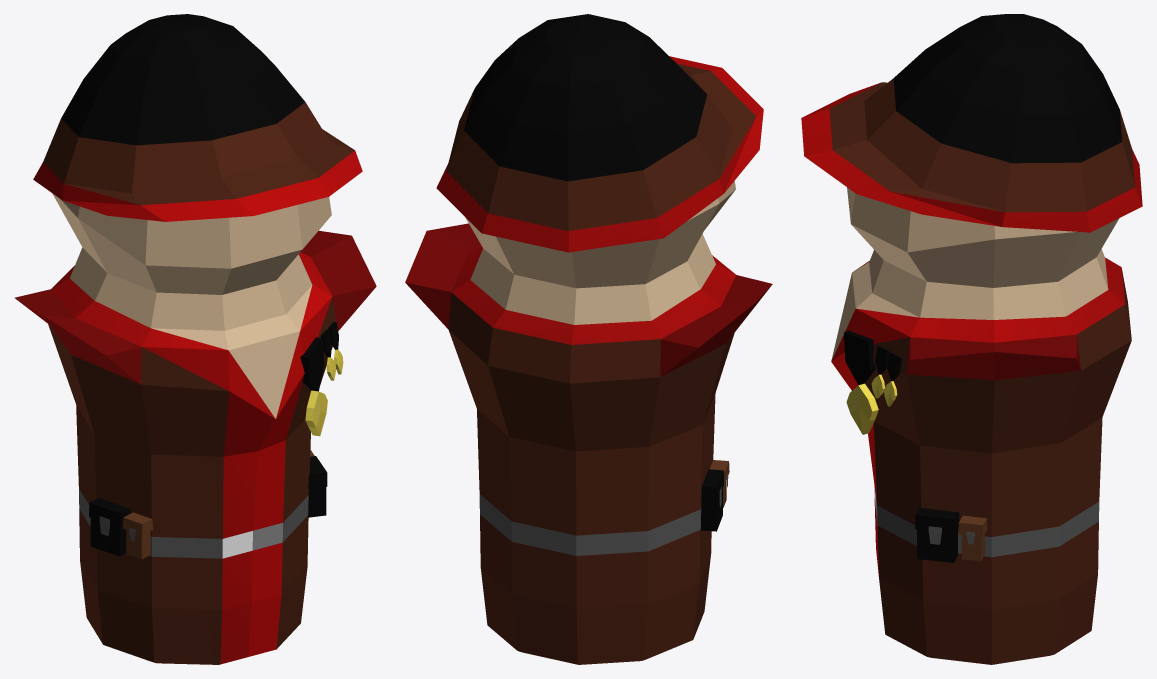
The model's file is Second_player.fbx.
The picture shows the model from 3 angles, left to right: view 1: azimuth 30°, elevation 25°; view 2: azimuth 150°, elevation 25°; view 3: azimuth 270°, elevation 25°; orthographic projection. The views are drawn at different scales.
Parts seen in each view (by area): view 1: Sphere, Sphere.001, Sphere.004, Sphere.002, Sphere.003, Cube.004, Plane.001, Cube.005, Cube.007; view 2: Sphere, Sphere.001, Sphere.004, Sphere.002, Sphere.003, Cube.004; view 3: Sphere, Sphere.001, Sphere.004, Sphere.003, Plane.001, Cube.007, Cube.006, Plane.003, Plane.002.
Boxes of the visible parts, x1=… form: Sphere: x1=48, y1=252, x2=335, y2=664; Sphere.001: x1=33, y1=14, x2=362, y2=221; Sphere.004: x1=52, y1=193, x2=331, y2=330; Sphere.002: x1=14, y1=289, x2=141, y2=384; Sphere.003: x1=300, y1=230, x2=376, y2=330; Cube.004: x1=89, y1=498, x2=130, y2=556; Plane.001: x1=300, y1=337, x2=327, y2=436; Cube.005: x1=122, y1=512, x2=153, y2=559; Cube.007: x1=308, y1=456, x2=327, y2=517; Sphere: x1=448, y1=247, x2=735, y2=664; Sphere.001: x1=436, y1=14, x2=763, y2=252; Sphere.004: x1=465, y1=181, x2=735, y2=324; Sphere.002: x1=660, y1=275, x2=772, y2=376; Sphere.003: x1=405, y1=223, x2=481, y2=329; Cube.004: x1=701, y1=469, x2=723, y2=531; Sphere: x1=831, y1=257, x2=1131, y2=664; Sphere.001: x1=801, y1=14, x2=1142, y2=232; Sphere.004: x1=847, y1=187, x2=1119, y2=319; Sphere.003: x1=906, y1=334, x2=1080, y2=380; Plane.001: x1=843, y1=330, x2=878, y2=434; Cube.007: x1=915, y1=507, x2=959, y2=562; Cube.006: x1=958, y1=515, x2=987, y2=561; Plane.003: x1=884, y1=353, x2=902, y2=406; Plane.002: x1=871, y1=346, x2=890, y2=398.
Bounding box in the file's own units: 191 × 343 × 177.
